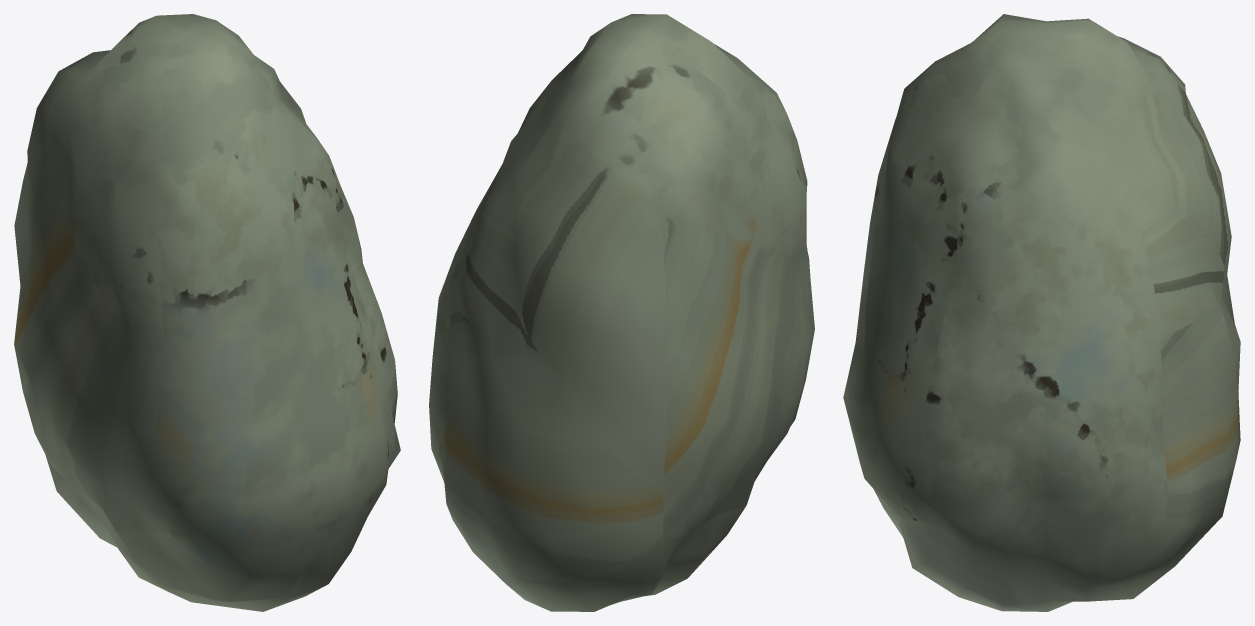
The model's file is Rock4_High.fbx.
The picture shows the model from 3 angles, left to right: view 1: azimuth 30°, elevation 25°; view 2: azimuth 150°, elevation 25°; view 3: azimuth 270°, elevation 25°; orthographic projection. The views are drawn at different scales.
Parts seen in each view (by area): view 1: Rock4_High; view 2: Rock4_High; view 3: Rock4_High.
Boxes of the visible parts, x1,y1,x2,y2 form: Rock4_High: [14, 14, 400, 611]; Rock4_High: [429, 14, 814, 611]; Rock4_High: [843, 14, 1240, 611].
Size of the model in its own units: 153 by 269 by 172.
